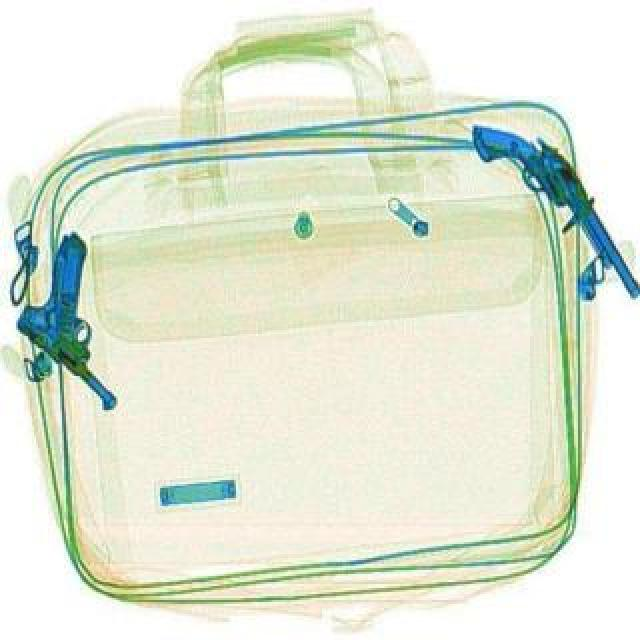gun: (470, 102, 638, 306), (0, 244, 180, 408)
